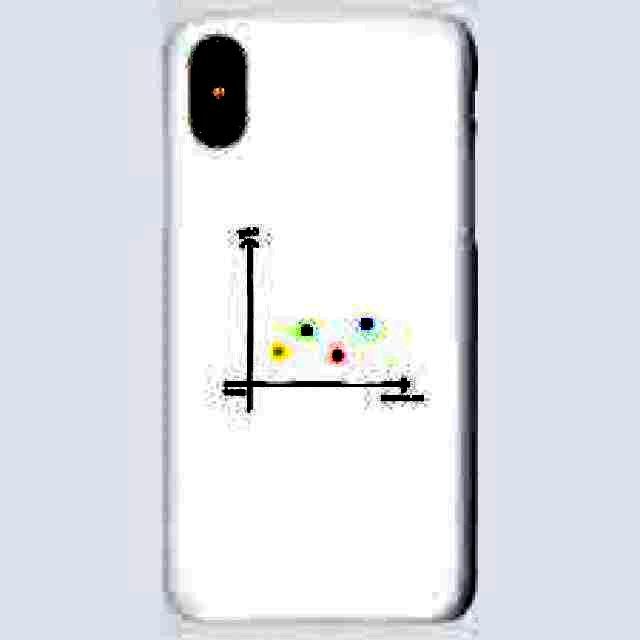lens_back: (195, 38, 239, 84), (198, 104, 242, 143)
phone: (159, 6, 475, 626)
